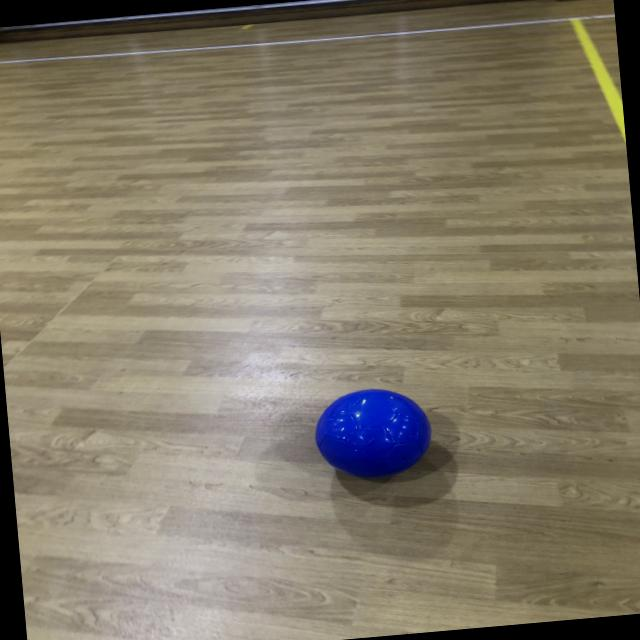blue_ball: (320, 382, 440, 480)
